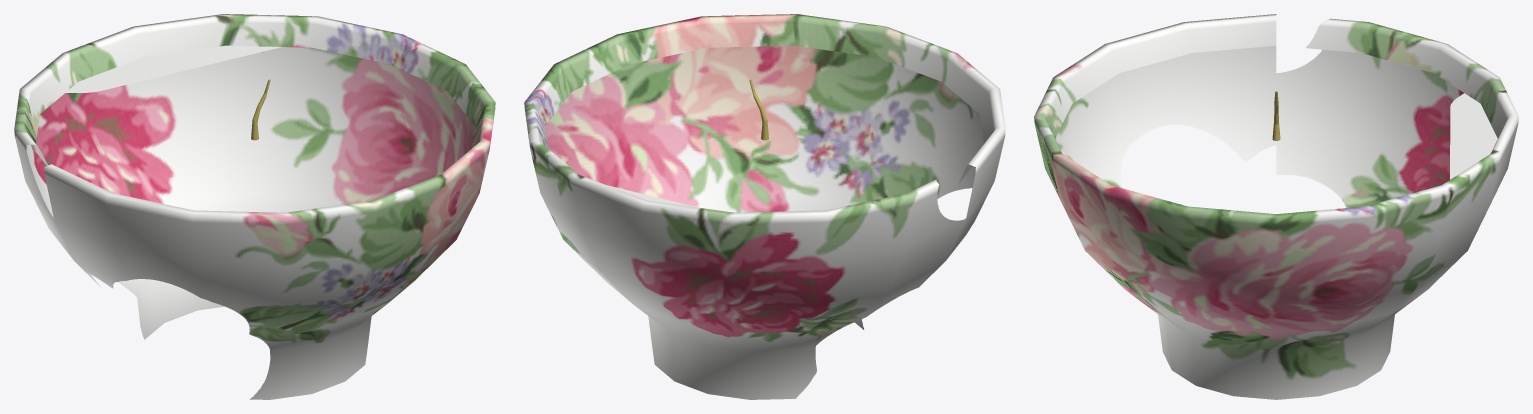
Rendered from candle_3.FBX.
3 views of the same model, side by side, from view 1: azimuth 30°, elevation 25°; view 2: azimuth 150°, elevation 25°; view 3: azimuth 270°, elevation 25° (orthographic).
Parts seen in each view (by area): view 1: candle; view 2: candle; view 3: candle.
Part boxes in pixels (box(x1,y1,x2,y2)): candle: box(14, 14, 495, 399); candle: box(524, 14, 1005, 399); candle: box(1034, 14, 1518, 399).
Size of the model in its own units: 3.62 by 2.21 by 3.62.
